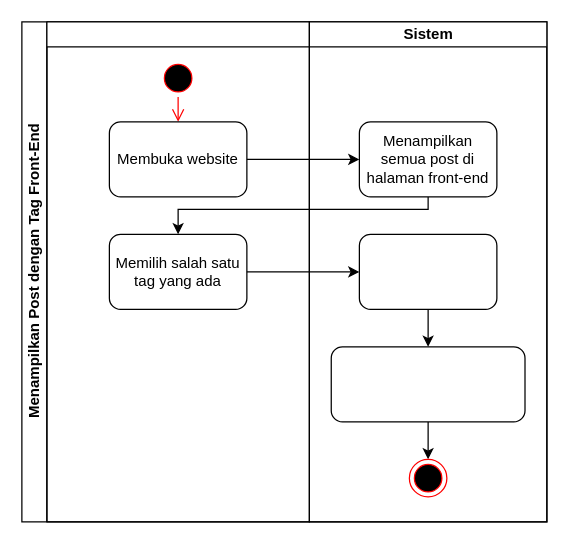
The diagram is 569 pixels wide and 544 high, and some of its shapes have lost their labels. Here are the shapes that lost their labels. From the top down, the box of each, then its label:
(46, 21, 309, 522): Visitor
(358, 233, 497, 309): Mencari data
(330, 346, 525, 422): Menampilkan semua post berdasarkan tag di halaman front-end
